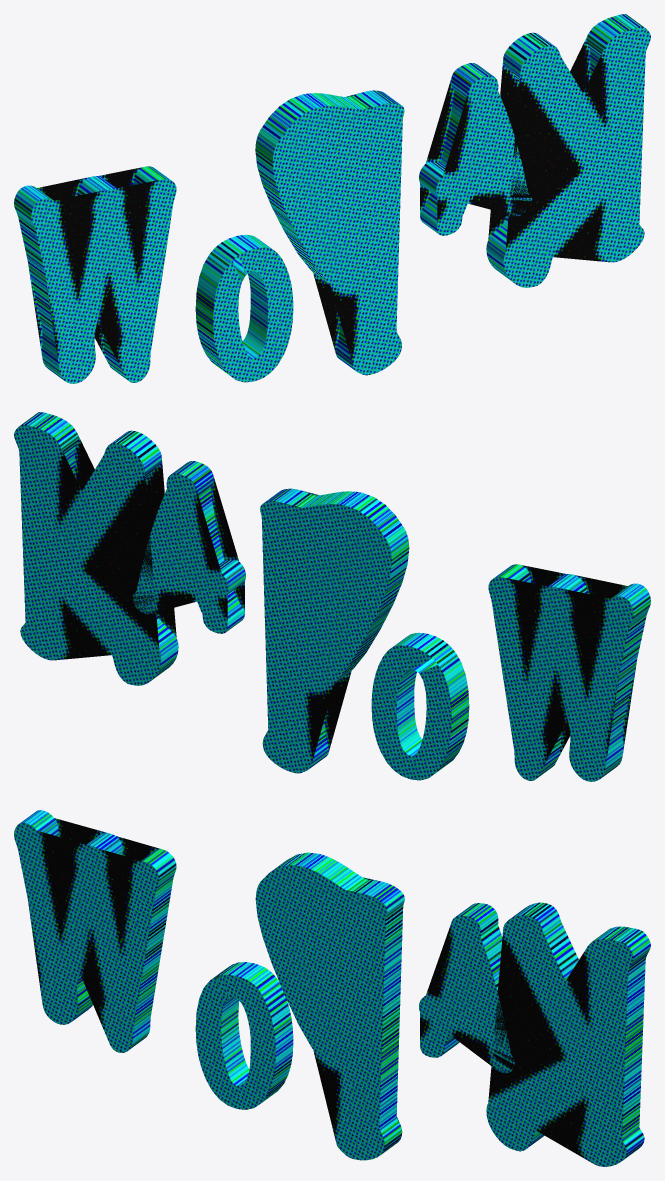
File: KAPOWtext.fbx
3 views of the same model, one above another, from view 1: azimuth 30°, elevation 25°; view 2: azimuth 150°, elevation 25°; view 3: azimuth 330°, elevation 25° (orthographic).
Visible parts, largest first — view 1: K, P, W, A, O; view 2: K, P, W, A, O; view 3: K, P, W, O, A.
Boxes of the visible parts, x1=… form: K: x1=486, y1=14, x2=650, y2=287; P: x1=255, y1=90, x2=404, y2=375; W: x1=14, y1=166, x2=176, y2=383; A: x1=419, y1=63, x2=532, y2=235; O: x1=195, y1=234, x2=293, y2=382; K: x1=14, y1=412, x2=178, y2=685; P: x1=260, y1=488, x2=409, y2=773; W: x1=488, y1=564, x2=650, y2=781; A: x1=133, y1=461, x2=245, y2=633; O: x1=371, y1=632, x2=469, y2=780; K: x1=486, y1=902, x2=650, y2=1166; P: x1=255, y1=852, x2=404, y2=1160; W: x1=14, y1=810, x2=176, y2=1052; O: x1=195, y1=962, x2=293, y2=1109; A: x1=419, y1=903, x2=515, y2=1073.
Size of the model in its own units: 51.76 by 22.84 by 2.53.
